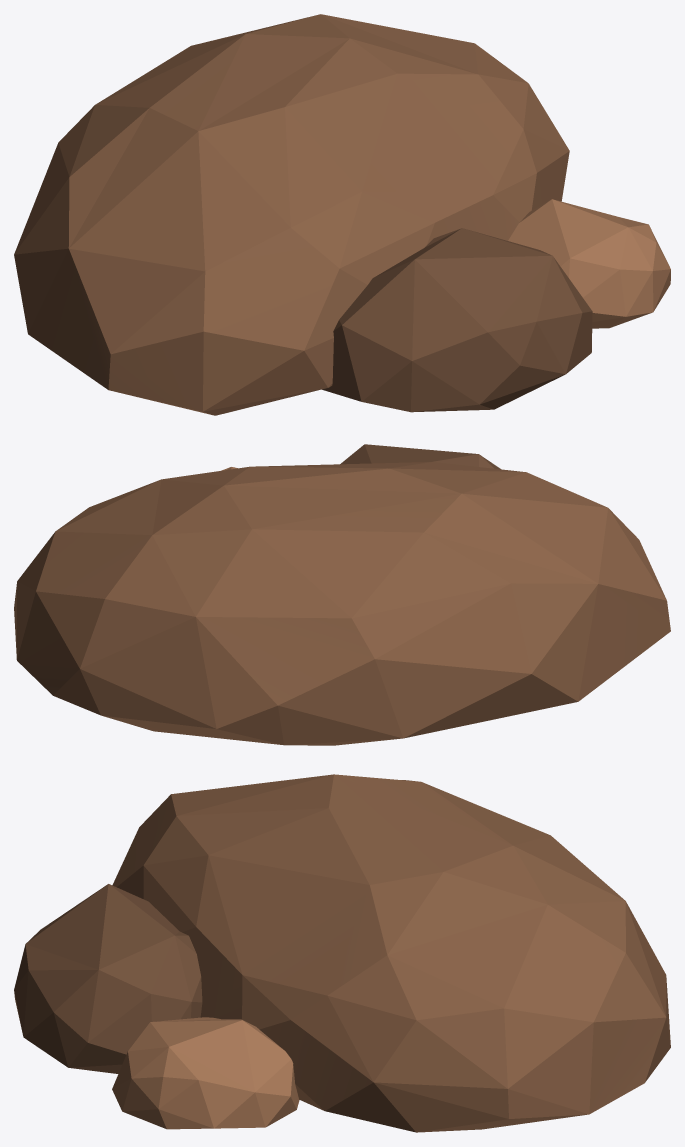
File: SM_Env_Rock_03.obj
3 renders of one model, top to bottom at view 1: azimuth 30°, elevation 25°; view 2: azimuth 150°, elevation 25°; view 3: azimuth 270°, elevation 25°, orthographic. The views are drawn at different scales.
Visible parts, largest first — view 1: SM_Env_Rock_03_0; view 2: SM_Env_Rock_03_0; view 3: SM_Env_Rock_03_0.
Boxes of the visible parts, box(x1,y1,x2,y2) form: SM_Env_Rock_03_0: box(14, 14, 670, 415); SM_Env_Rock_03_0: box(14, 444, 670, 745); SM_Env_Rock_03_0: box(14, 774, 670, 1132).
Size of the model in its own units: 1.74 by 0.6507 by 1.81.
Materials: 1 (1 with a texture image).
